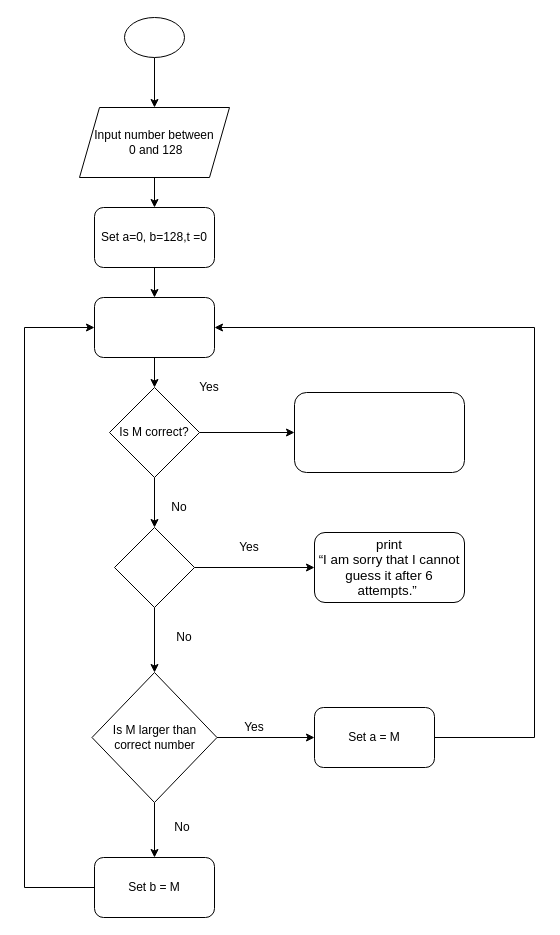
This 560x935 diagram has some shape labels left out. Here are the shapes that lost their labels. From the top down, the box of each, then its label:
(124, 16, 184, 58): Start
(94, 296, 214, 358): M = (a+b)/2 t = t+1
(294, 392, 464, 472): print “The number you thought of is M and I guessed it t tries.”
(114, 526, 194, 608): t = 6 ?
